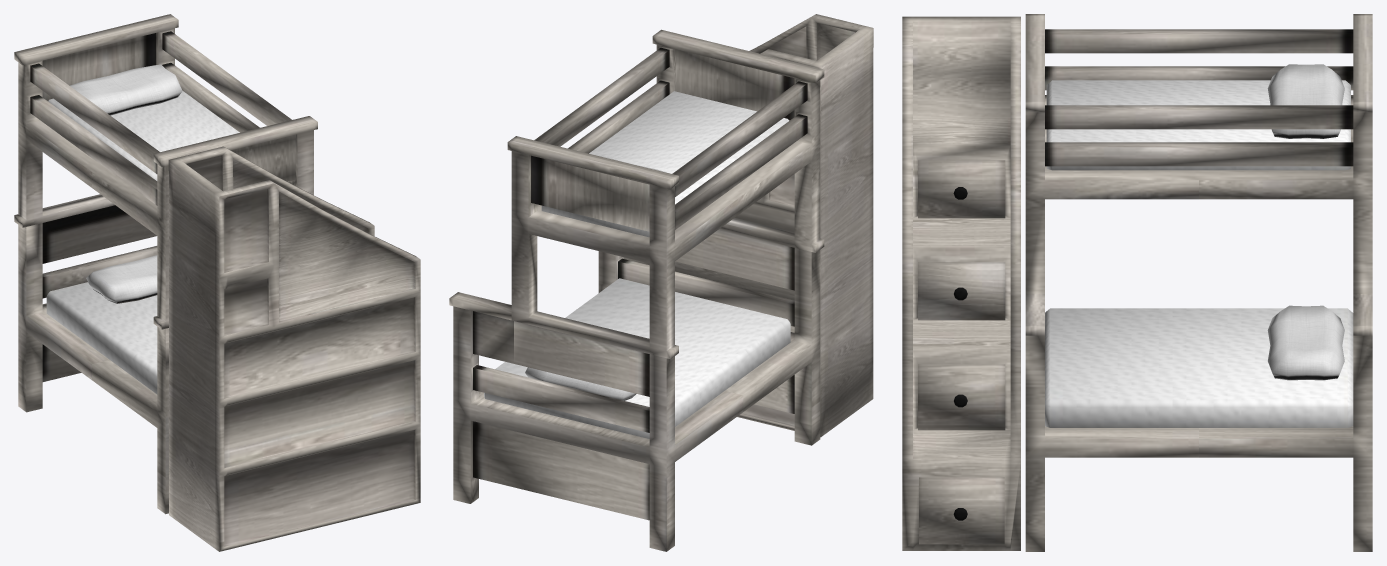
3 views of the same model, side by side, from view 1: azimuth 30°, elevation 25°; view 2: azimuth 150°, elevation 25°; view 3: azimuth 270°, elevation 25° (orthographic). The views are drawn at different scales.
Visible parts, largest first — view 1: Object_2; view 2: Object_2; view 3: Object_2.
Part boxes in pixels (x1,y1,x2,y2): Object_2: (14,14,420,551); Object_2: (449,14,873,551); Object_2: (902,14,1372,551).
Bounding box in the file's own units: 1.34 × 2.11 × 2.15.
Materials: 1 (1 with a texture image).
